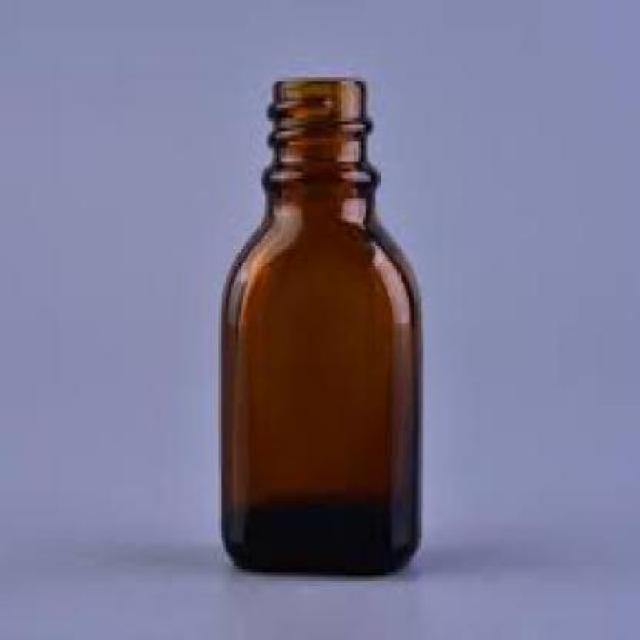kaca: (217, 75, 418, 577)
